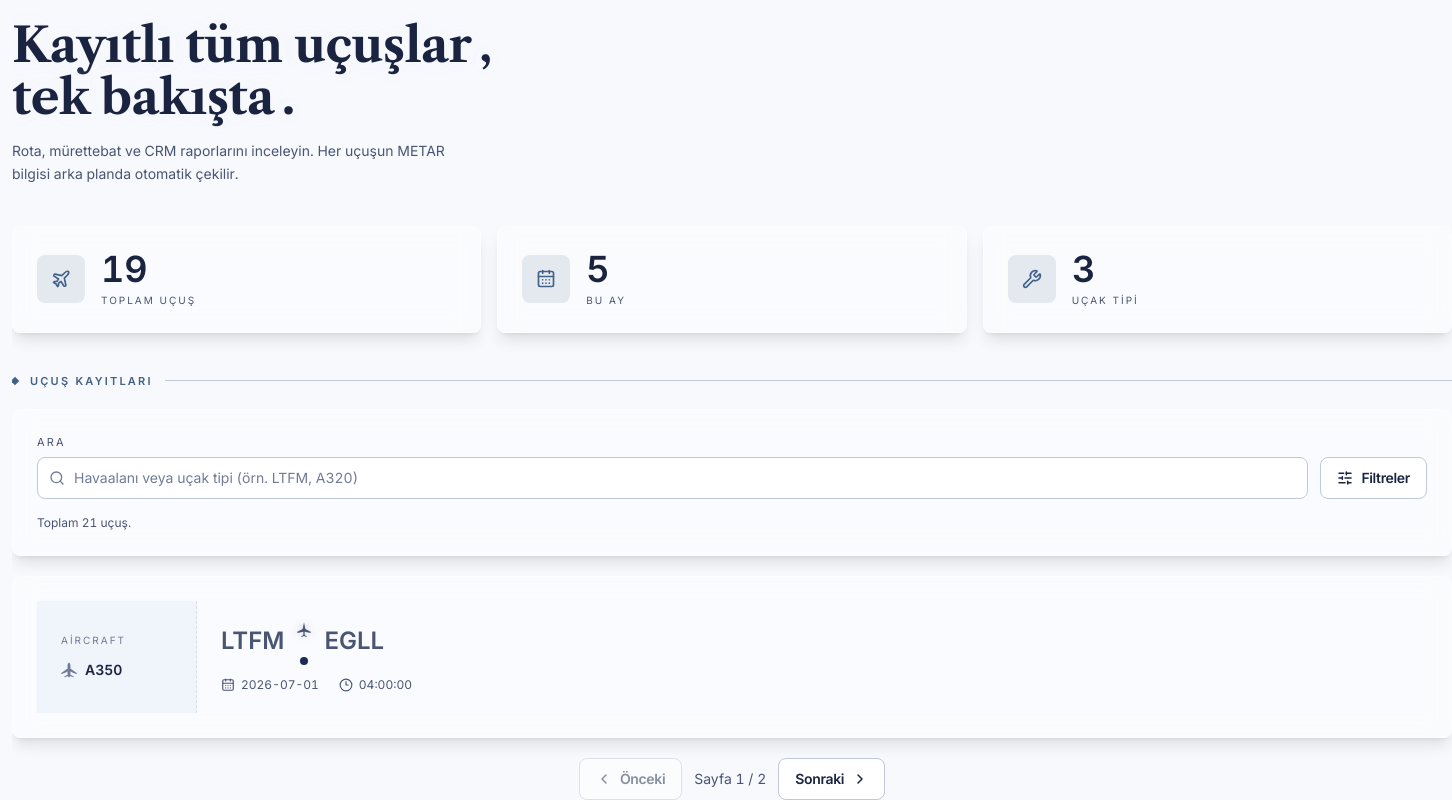
Test: DashboardPage › fetches the next page when "Sonraki" is clicked
Expected: the text "A350" is shown, top-left (85, 660), bottom-right (122, 680)
Click the button "Sonraki": (832, 779) top-left (778, 758), bottom-right (885, 799)
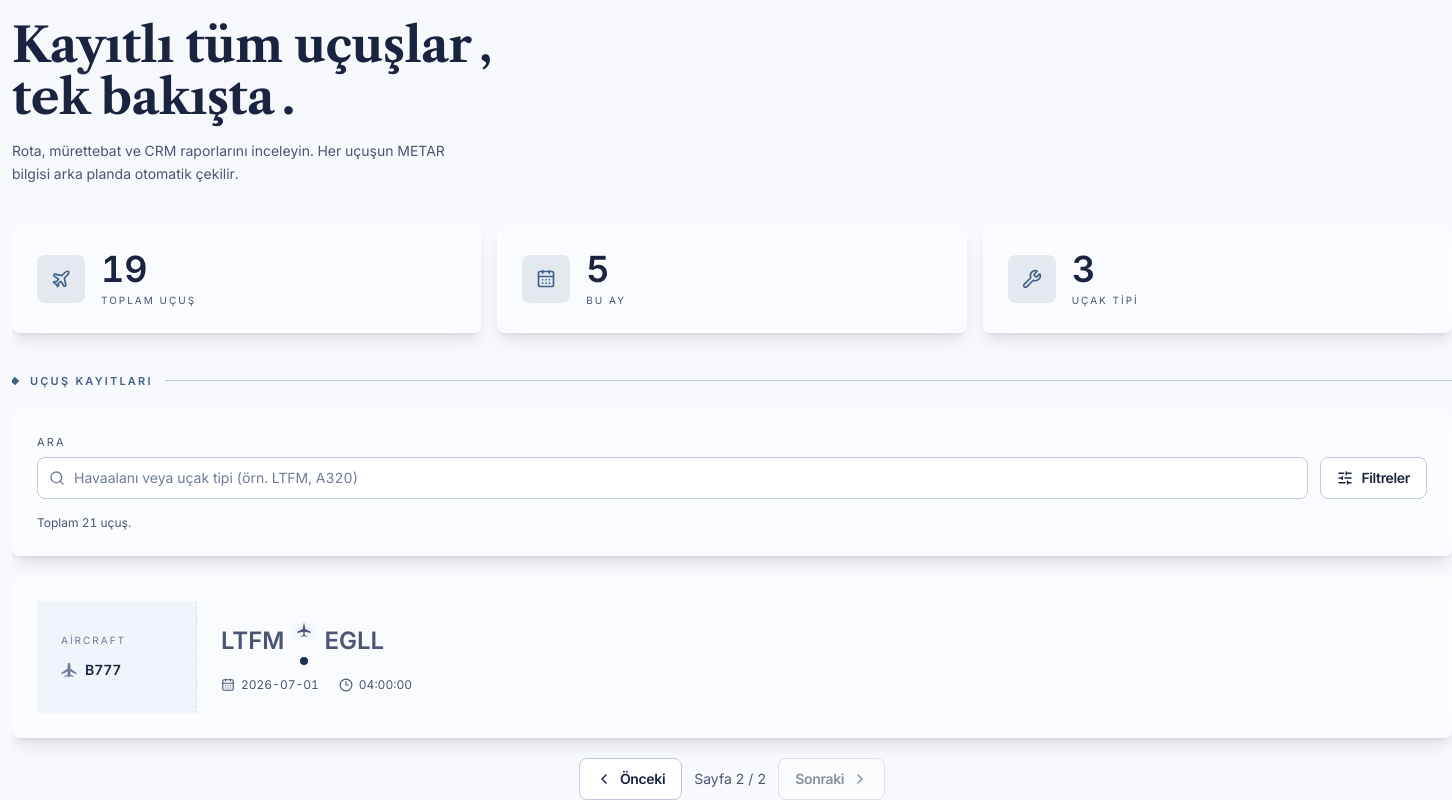
Result: the text "B777" is shown at top-left (85, 660), bottom-right (121, 680)
Result: the text "Sayfa 2 / 2" is shown at top-left (694, 769), bottom-right (766, 789)
